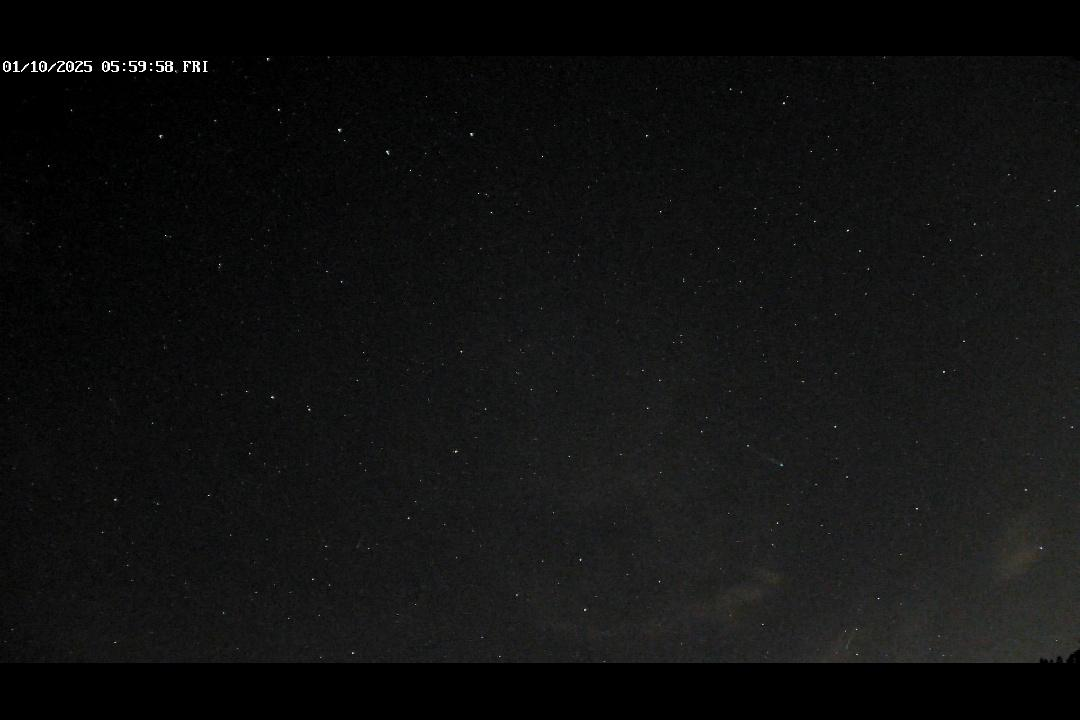Plane: (762, 453, 786, 467), (843, 632, 855, 651)
